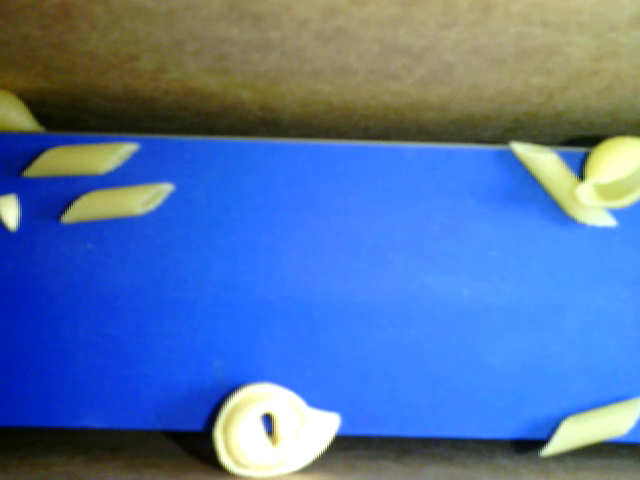penne: (507, 138, 620, 229), (537, 392, 639, 457), (59, 180, 175, 223), (24, 144, 139, 177)
shell: (575, 130, 639, 213), (1, 89, 50, 133)
tortellini: (206, 380, 346, 479)
